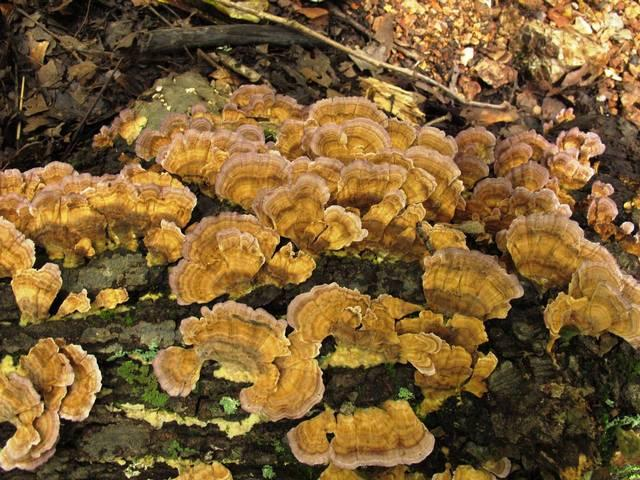Non-edible Mushroom: (0, 82, 638, 477)
